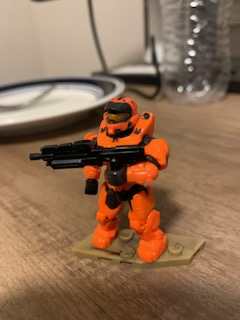rifle: (28, 139, 148, 175)
spartan: (81, 93, 172, 263)
